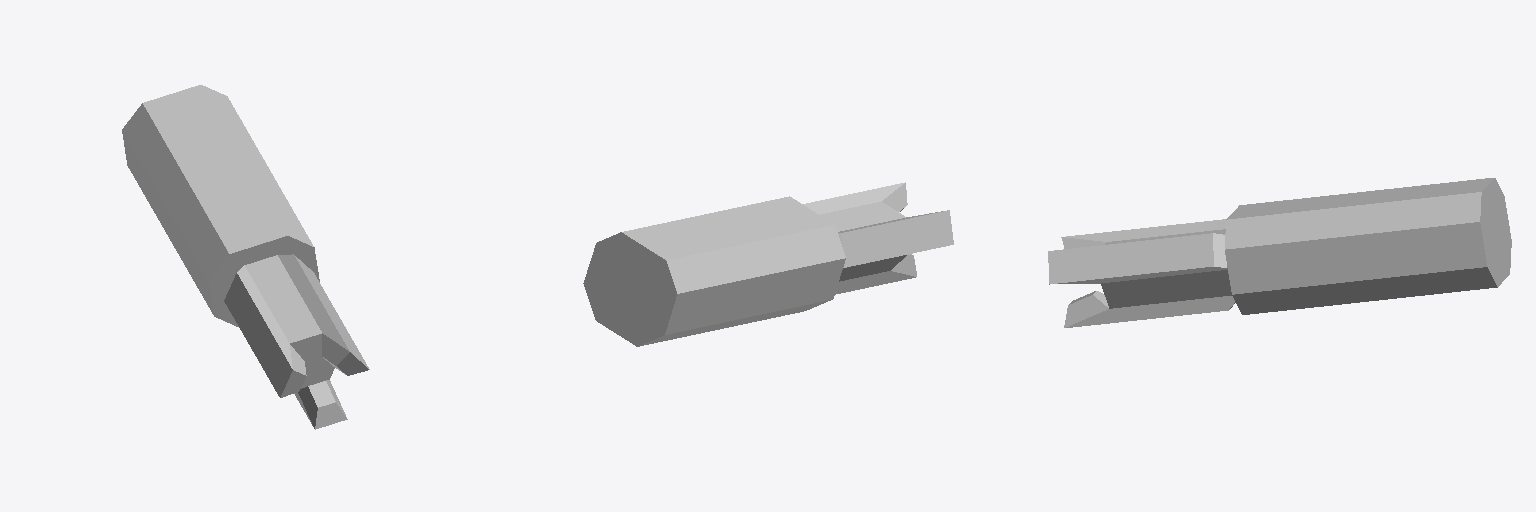
The model's file is RGun.obj.
The picture shows the model from 3 angles: view 1: azimuth 30°, elevation 25°; view 2: azimuth 150°, elevation 25°; view 3: azimuth 270°, elevation 25°; orthographic projection.
Visible parts, largest first — view 1: Rgun; view 2: Rgun; view 3: Rgun.
Boxes of the visible parts, box(x1,y1,x2,y2) form: Rgun: box(122, 85, 369, 429); Rgun: box(583, 182, 953, 346); Rgun: box(1048, 178, 1511, 327).
Bounding box in the file's own units: 9.73 × 9.94 × 24.14.